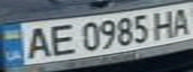0: (75, 18, 103, 52)
5: (130, 11, 154, 44)
8: (115, 15, 136, 47)
9: (97, 17, 118, 50)
A: (18, 24, 54, 61), (166, 4, 193, 37)
E: (42, 21, 78, 57)
H: (148, 8, 181, 39)
